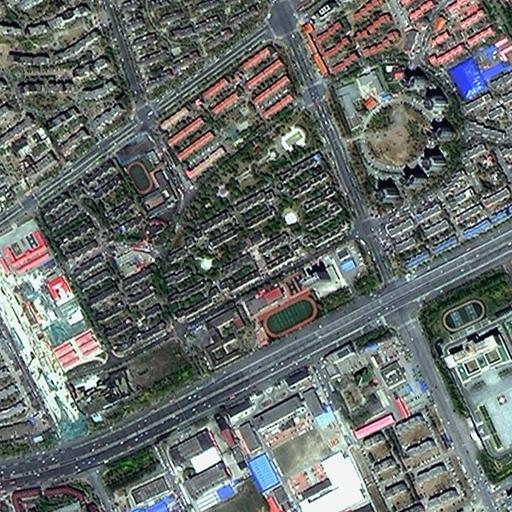school: (179, 268, 316, 377), (113, 129, 178, 218)
